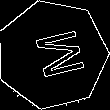M_W: (22, 26, 83, 83)
